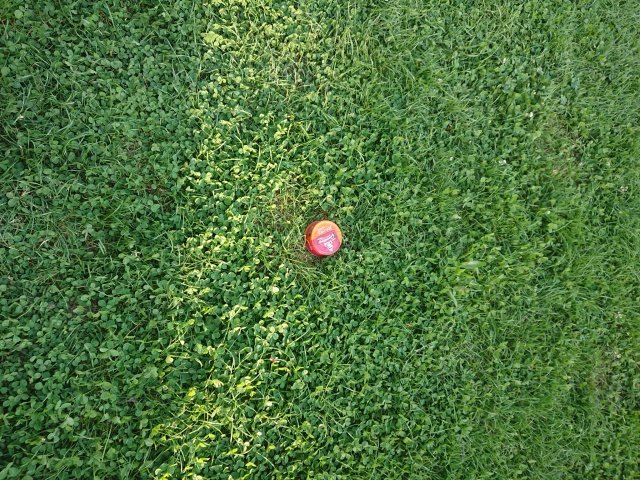Gavrilovic Pork Liver Pate 100g: (303, 218, 343, 257)
